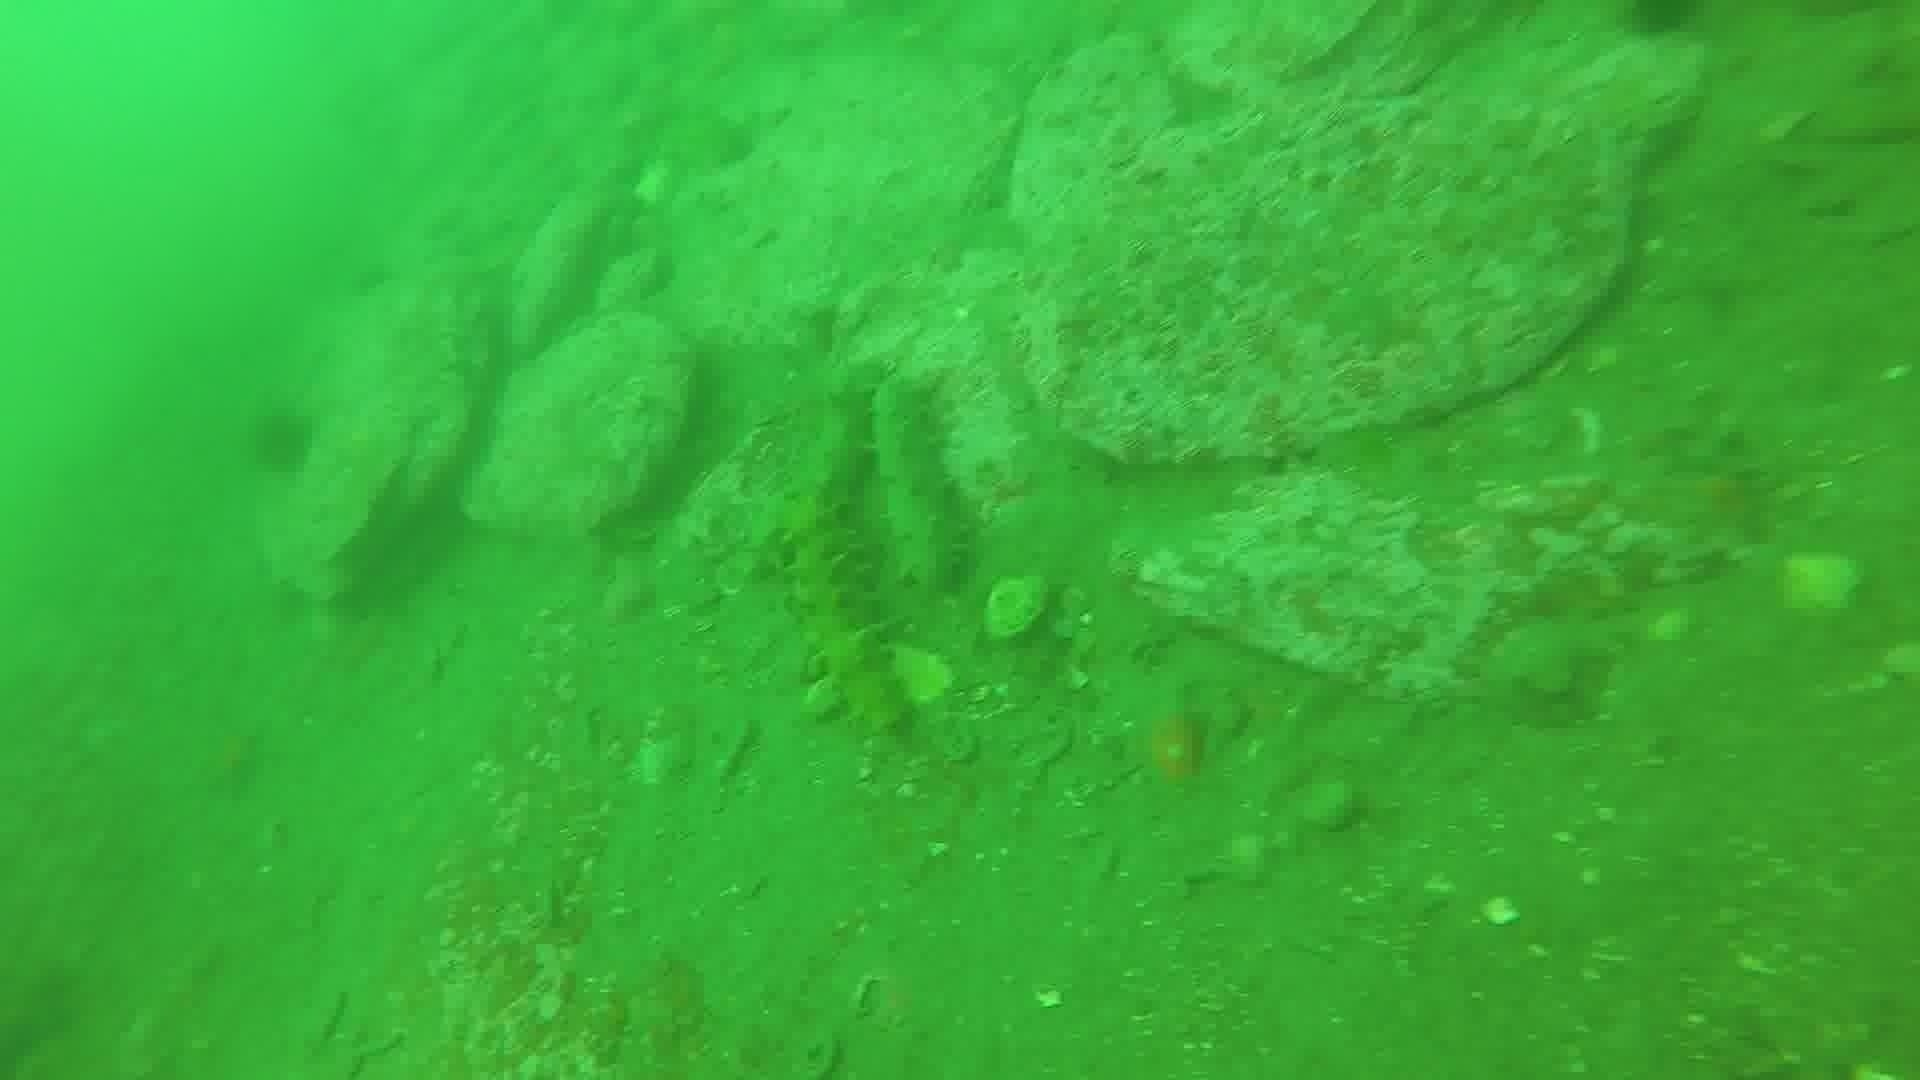echinus: (243, 400, 322, 480), (1611, 1, 1708, 47)
holothurian: (766, 377, 909, 729), (862, 367, 976, 600)
